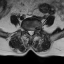CCS_normal: (30, 28, 32, 37)
LFS_severe_stenosis: (34, 28, 36, 33)
LLS_normal: (32, 28, 34, 36)
RFS_severe_stenosis: (25, 27, 27, 32)
RLS_normal: (27, 28, 29, 35)
